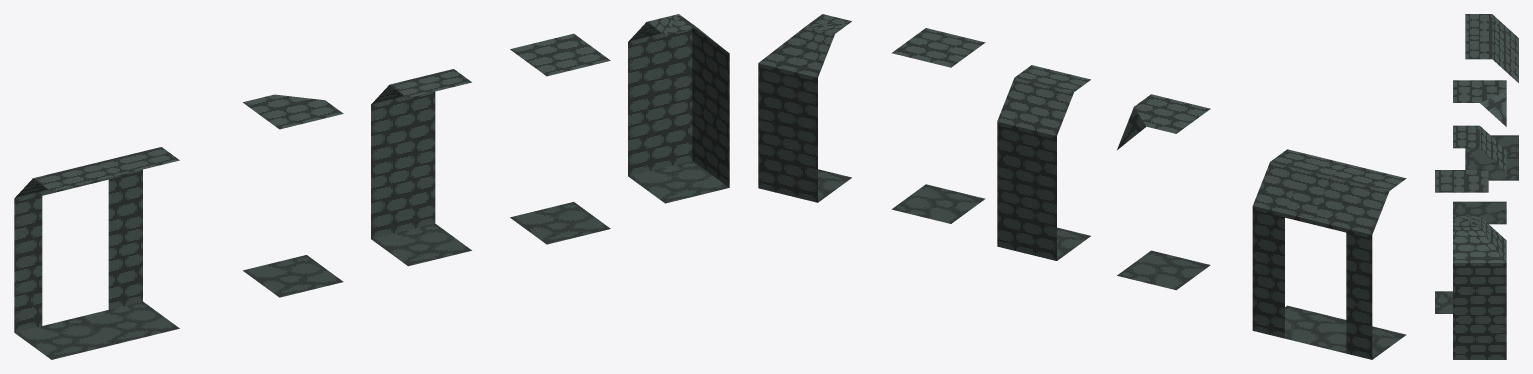
File: walltiles.glb
3 views of the same model, side by side, from view 1: azimuth 30°, elevation 25°; view 2: azimuth 150°, elevation 25°; view 3: azimuth 270°, elevation 25° (orthographic). The views are drawn at different scales.
Parts seen in each view (by area): view 1: corn-col, wallma-col, wall-col, wallm-col, topnbot-col, topncor-col; view 2: wallma-col, corn-col, wall-col, wallm-col, topncor-col, topnbot-col; view 3: corn-col, topncor-col, wall-col, topnbot-col, wallm-col, wallma-col.
Boxes of the visible parts, left/top/right/bottom form: corn-col: left=628, top=14, right=729, bottom=203; wallma-col: left=371, top=69, right=471, bottom=266; wall-col: left=14, top=154, right=145, bottom=359; wallm-col: left=79, top=147, right=179, bottom=343; topnbot-col: left=510, top=33, right=610, bottom=244; topncor-col: left=243, top=94, right=343, bottom=297; wallma-col: left=997, top=65, right=1090, bottom=260; corn-col: left=758, top=14, right=851, bottom=202; wall-col: left=1285, top=156, right=1406, bottom=359; wallm-col: left=1252, top=149, right=1346, bottom=345; topncor-col: left=1117, top=94, right=1210, bottom=290; topnbot-col: left=891, top=28, right=985, bottom=223; corn-col: left=1453, top=216, right=1506, bottom=359; topncor-col: left=1453, top=80, right=1506, bottom=224; wall-col: left=1465, top=14, right=1518, bottom=157; topnbot-col: left=1435, top=170, right=1488, bottom=313; wallm-col: left=1465, top=47, right=1518, bottom=180; wallma-col: left=1453, top=125, right=1506, bottom=171.
Size of the model in its own units: 10.41 by 2.72 by 1.57.
Materials: 2 (2 with a texture image).
